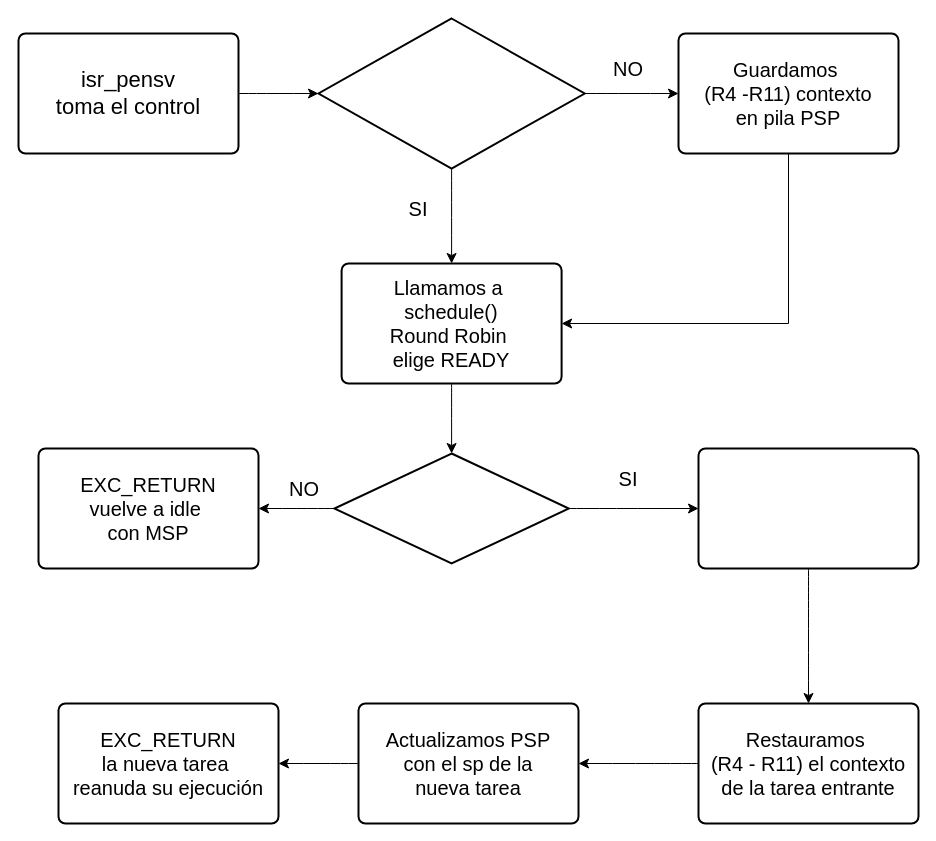
Image size: 936x841. Some labels were removed from this diagram. The shapes that lost their labels are listed below. From the top down, each one's centre as x and y in pixels, then its label:
At [451,93]: "¿PSP == 0? venimos del idle".
At [451,508]: "¿Task READY?".
At [808,508]: "Tarea pasa a RUNNING recargamos ticks = quantum".
